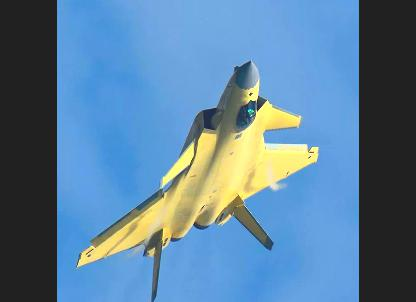F4: (75, 58, 322, 301)
